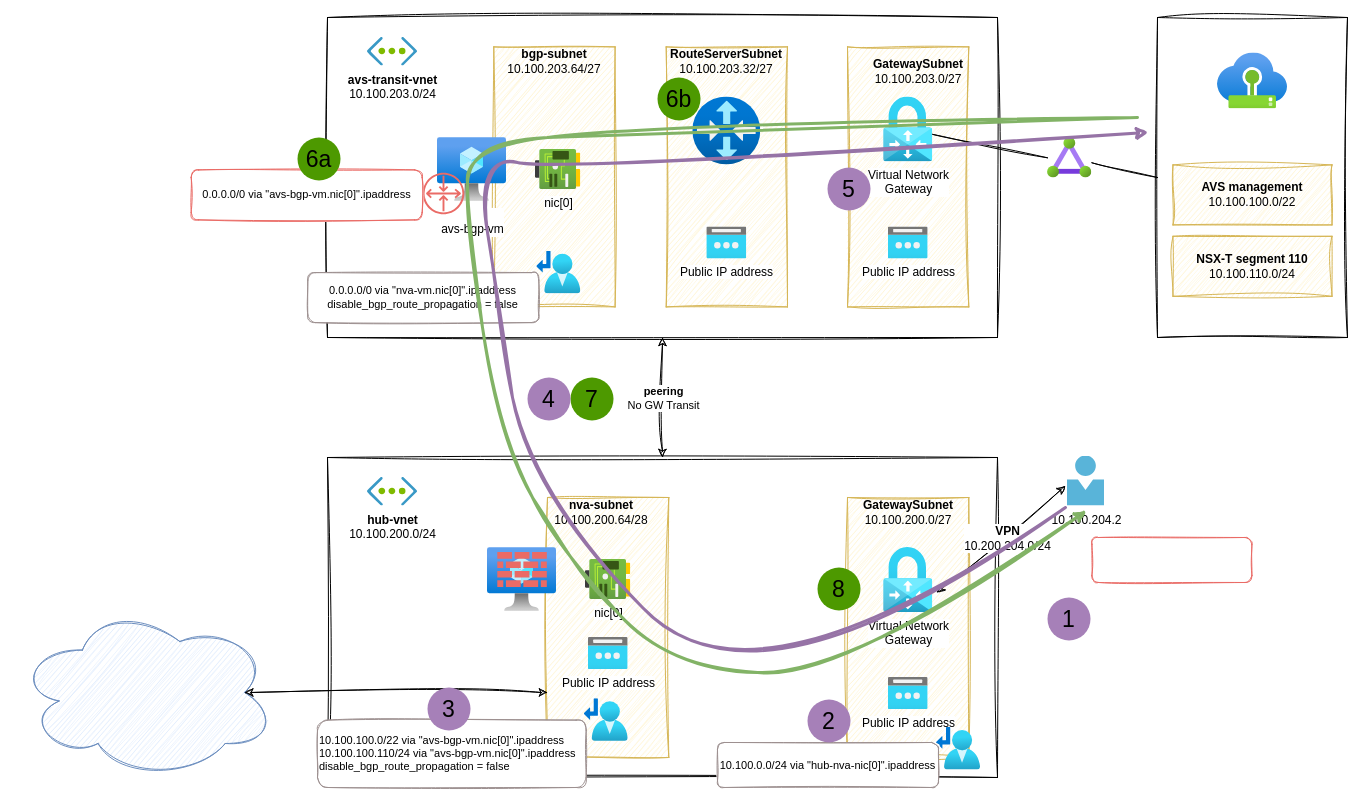
This 1365x805 diagram has some shape labels left out. The shapes that lost their labels are listed below. From the top down, each one's centre as x and y in pixels, then its label:
point (1252, 80): AVS deployment
point (726, 130): Azure Route Server
point (1069, 157): avs-transit-er no Global Reach
point (521, 569): hub-nva
point (1171, 559): +Custom route: 10.100.0.0/16
point (146, 692): Internet breakout
